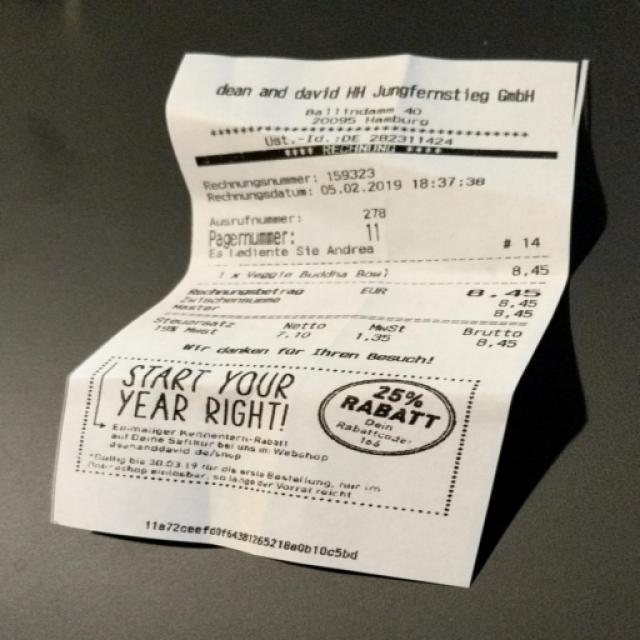document: (52, 55, 588, 586)
